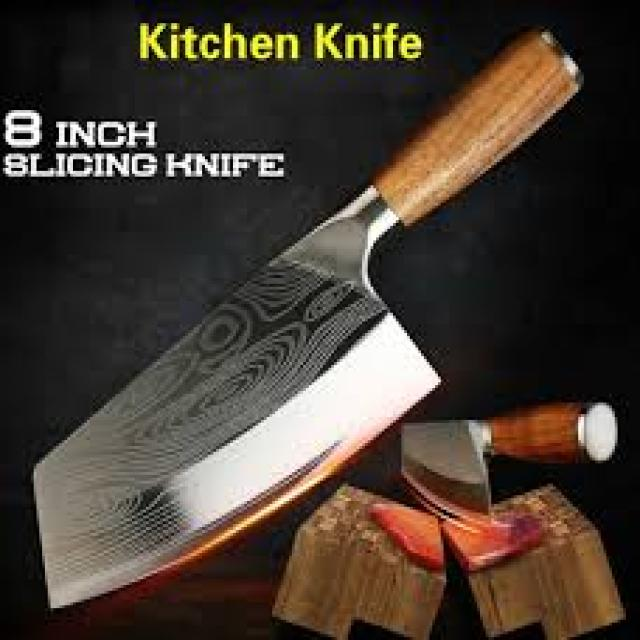Knife: (34, 29, 578, 605)
